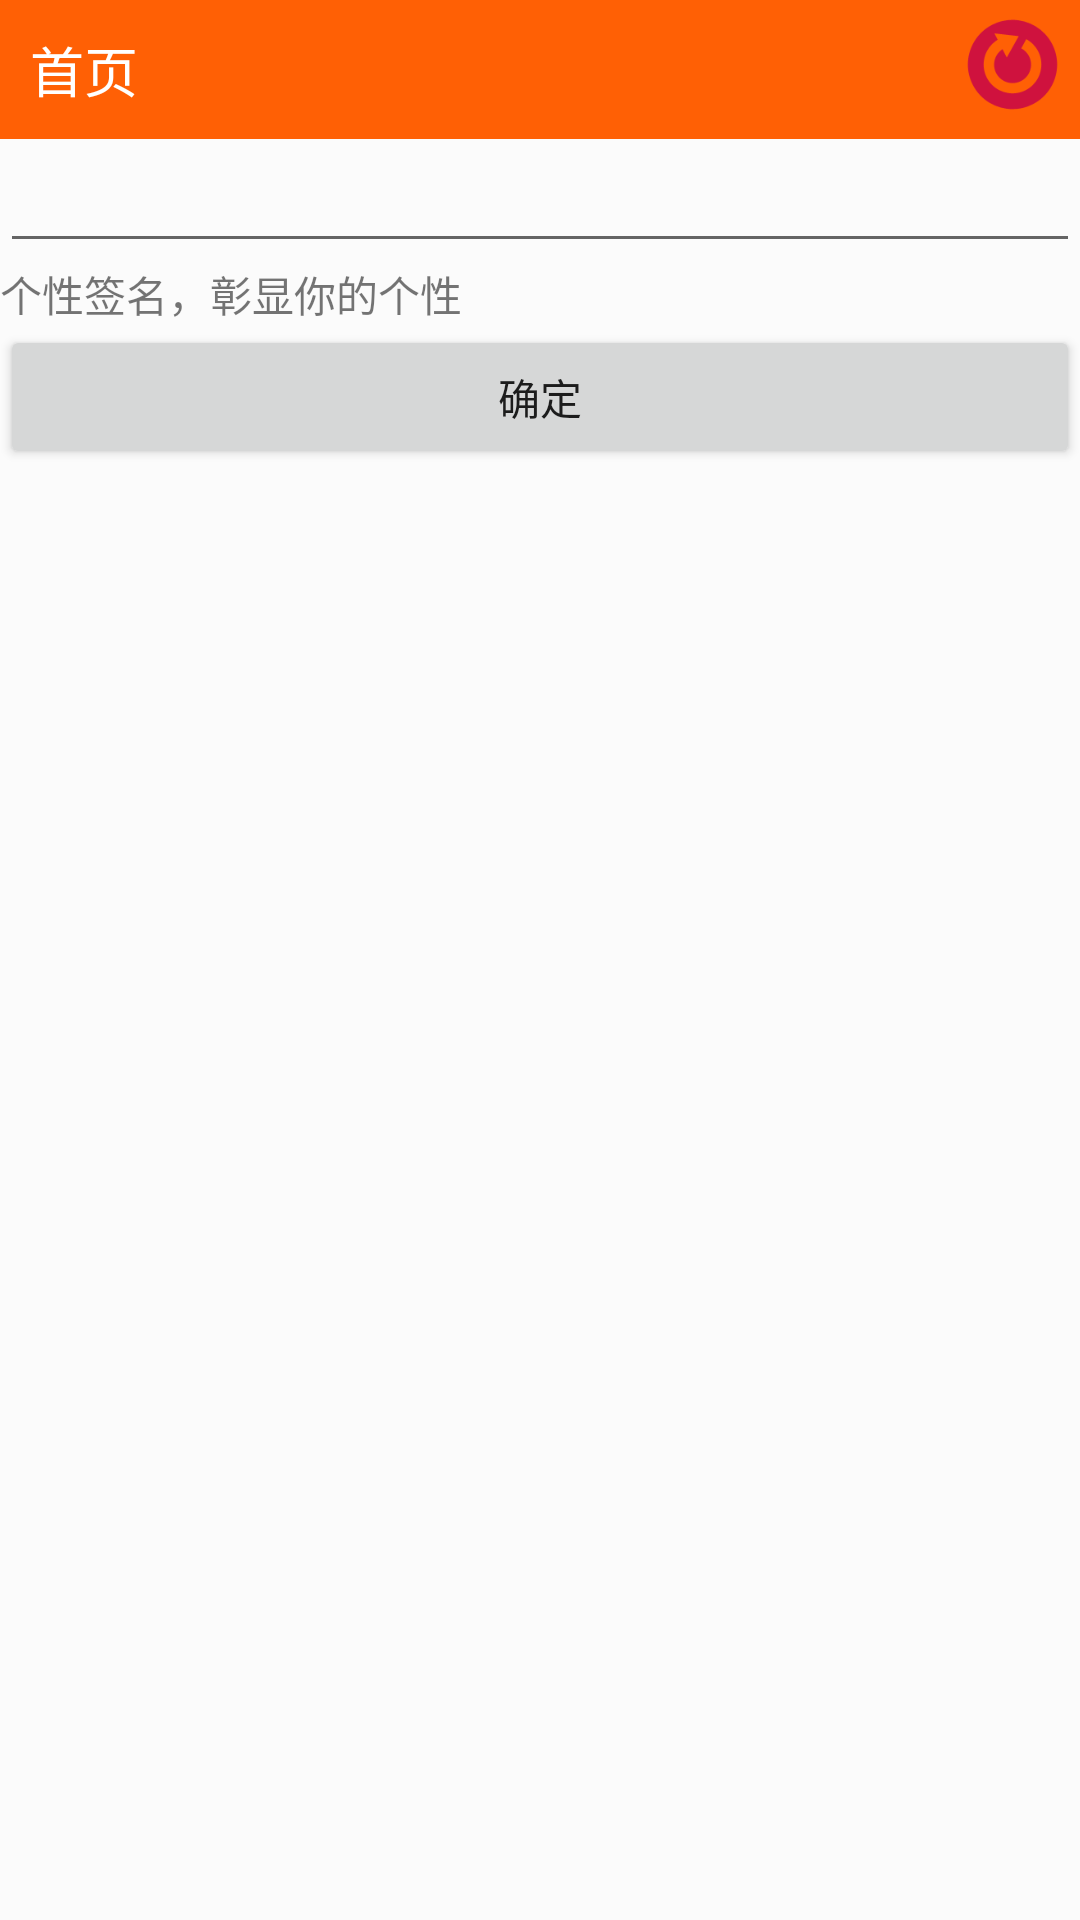

Icon bounding boxes for this 1080x1920 phone screenshot, format Rect(x1, y1, x2, y2):
refresh: Rect(968, 20, 1057, 109)
